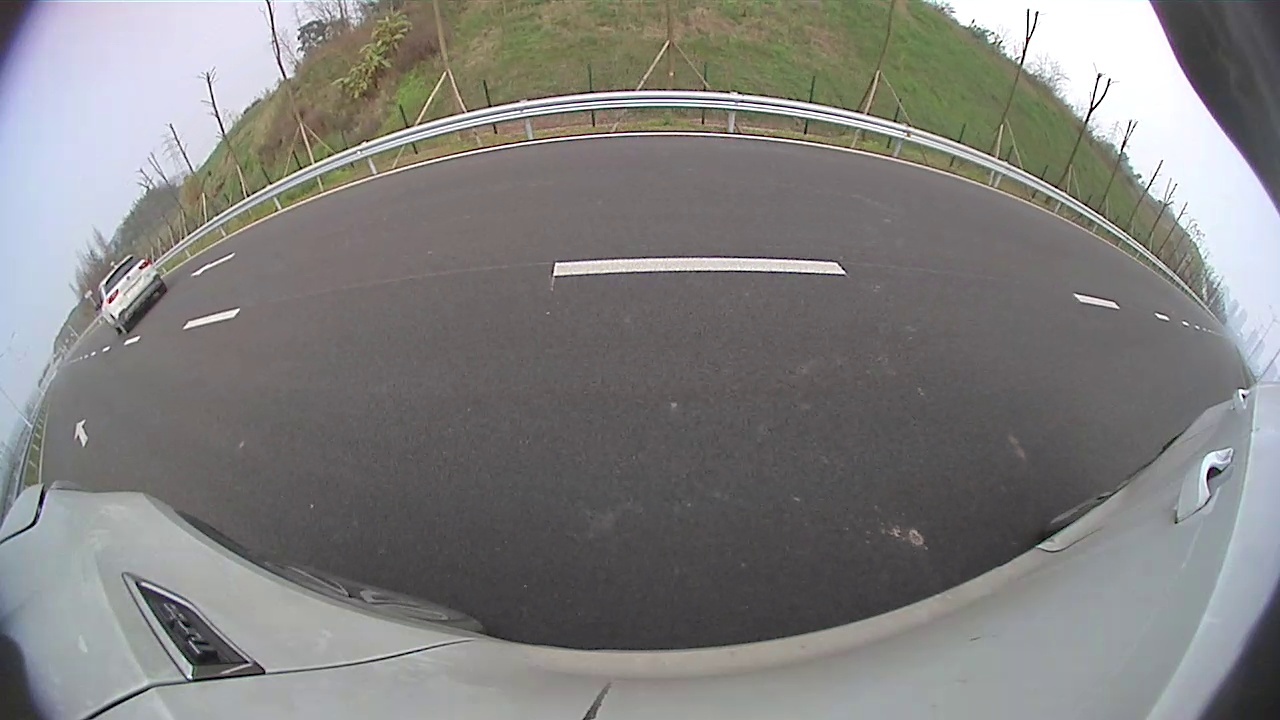car: (95, 253, 168, 335)
